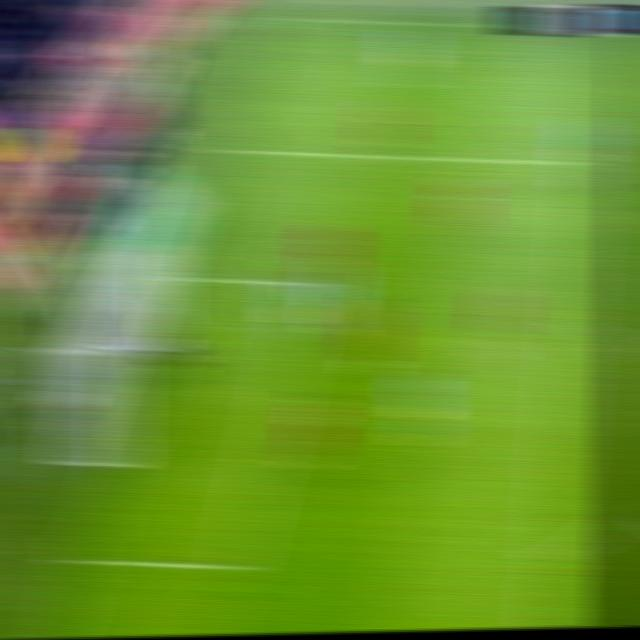bigarea_top_inner: (557, 146, 615, 183)
bigarea_top_outter: (210, 127, 261, 173)
bottom_arc_area_intersection: (528, 538, 579, 579)
corner: (257, 8, 308, 36)
smallarea_bottom_inner: (208, 536, 261, 599)
smallarea_bottom_outter: (57, 539, 107, 585)
smallarea_top_inner: (291, 271, 332, 302)
smallarea_top_outter: (164, 257, 213, 302)
top_arc_area_intersection: (546, 302, 601, 346)
